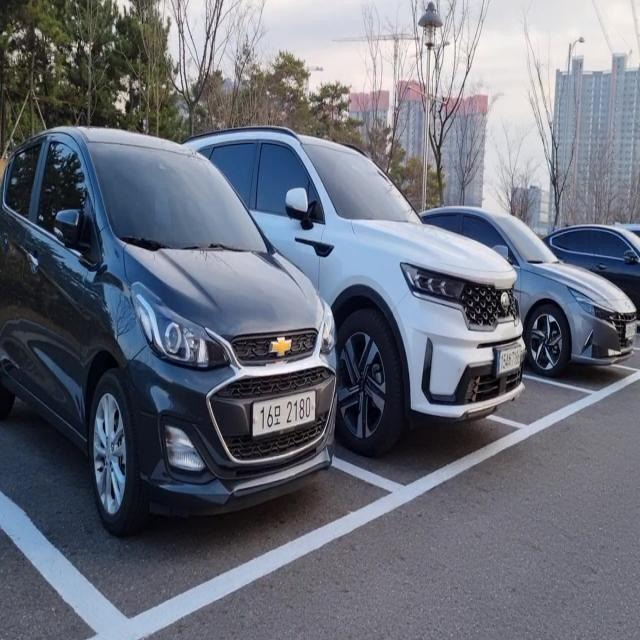occupied: (0, 82, 398, 640), (282, 167, 525, 520), (510, 252, 626, 385)
